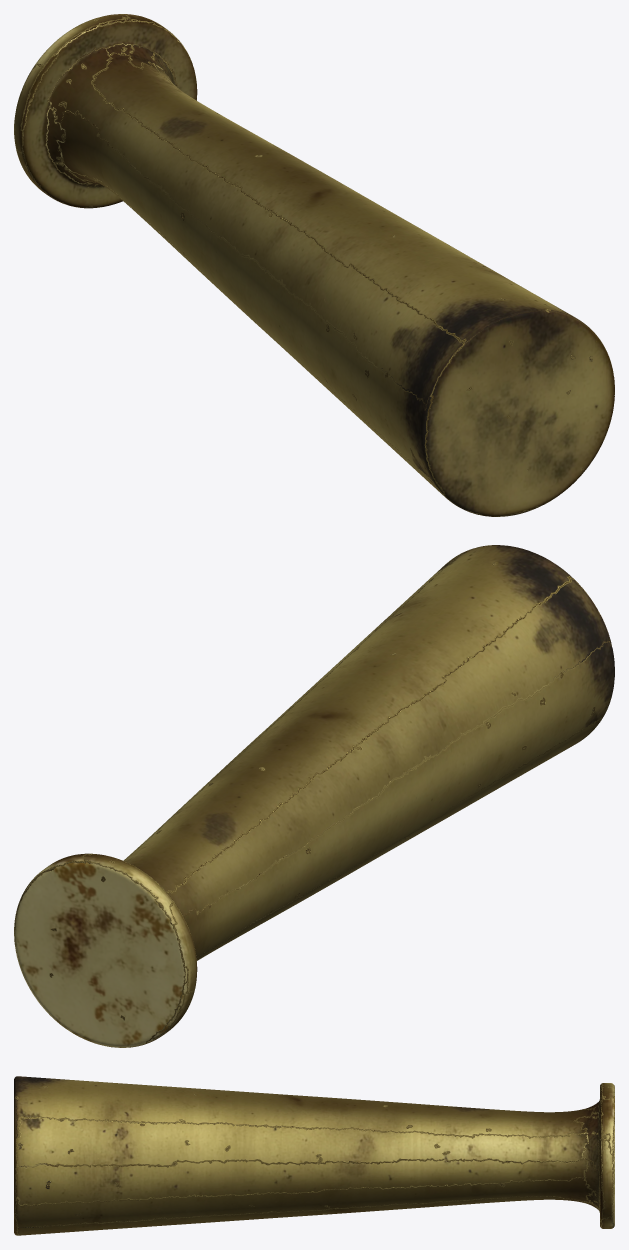
The picture shows the model from 3 angles, top to bottom: view 1: azimuth 30°, elevation 25°; view 2: azimuth 150°, elevation 25°; view 3: azimuth 270°, elevation 25°; orthographic projection. The views are drawn at different scales.
Bounding box in the file's own units: 0.5132 × 0.5132 × 1.94.
Materials: 1 (1 with a texture image).
